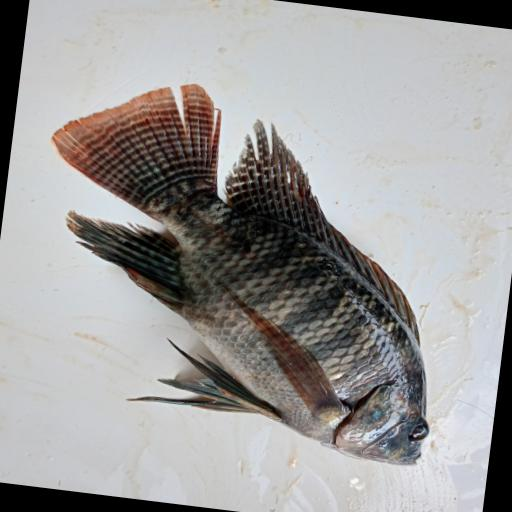Tilapia: (17, 68, 469, 470)
